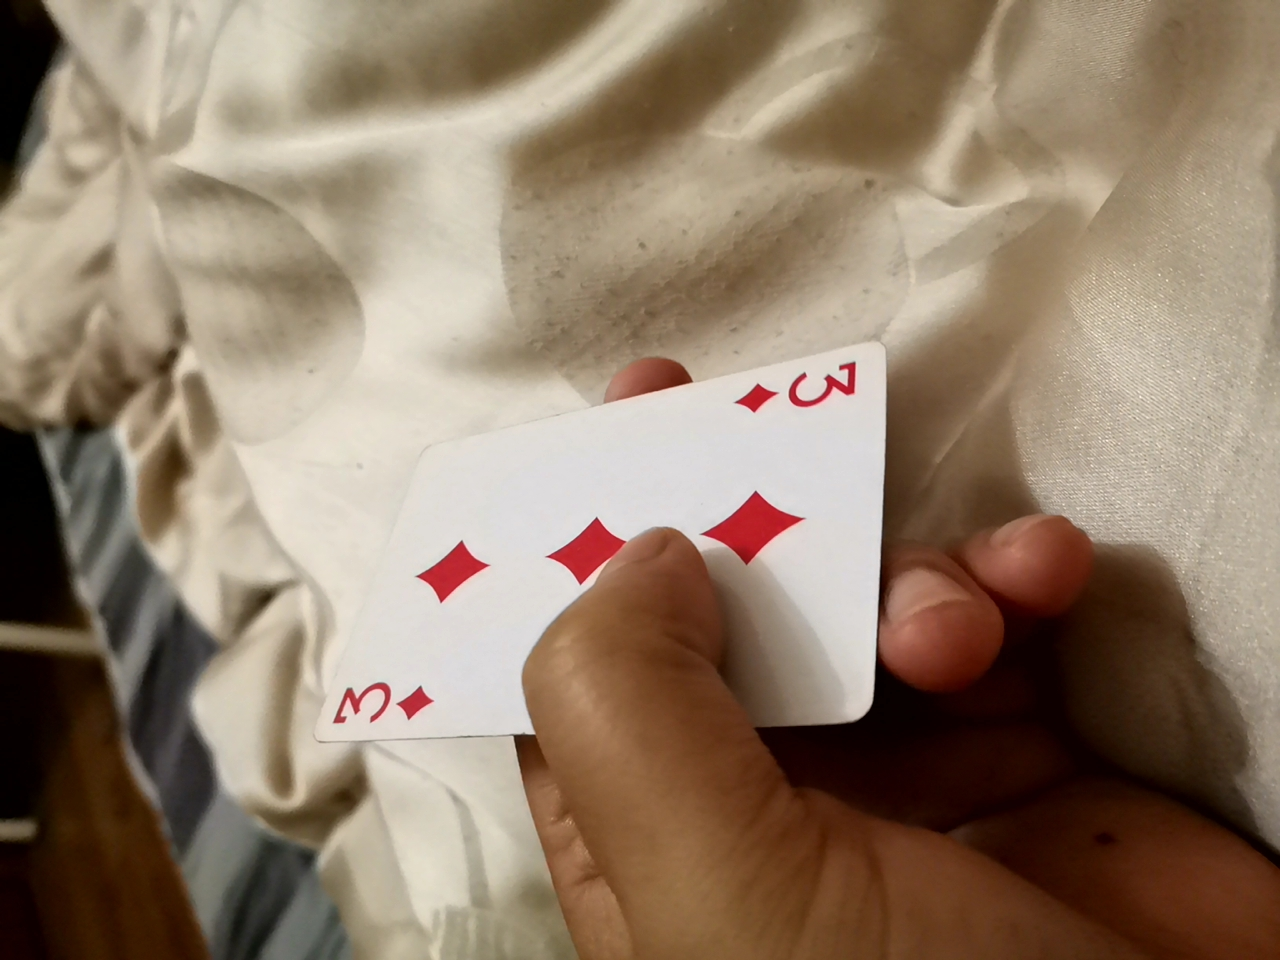fk 3: (317, 323, 903, 777)
